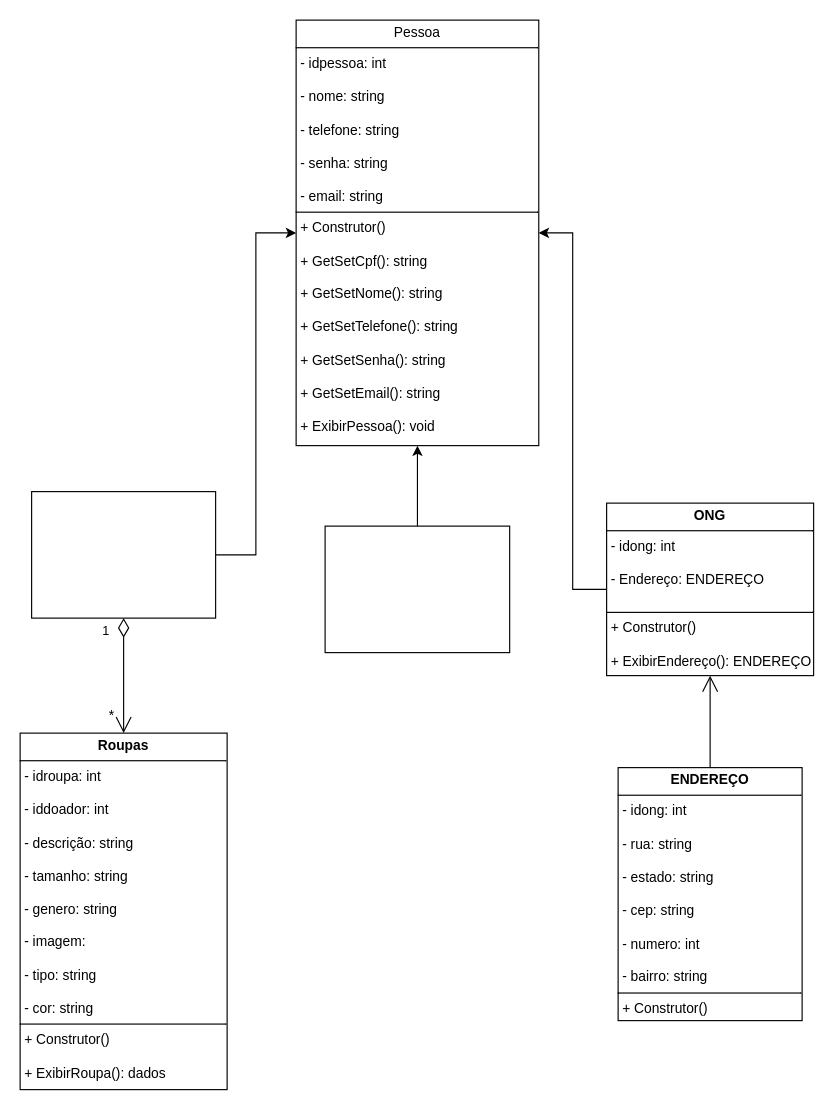
Some shapes in this 834 by 1110 pixel diagram are drawn without their labels. Here are the shapes that lost their labels. From the top down, the box of each, then its label:
(30, 490, 216, 618): Doador - iddoador: int - roupasdoadas: int + Construtor()
(324, 525, 510, 653): Receptor - idreceptor: int - roupasrecebidas: int + Construtor()
